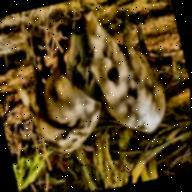boar: (3, 10, 128, 170), (69, 0, 178, 148)
